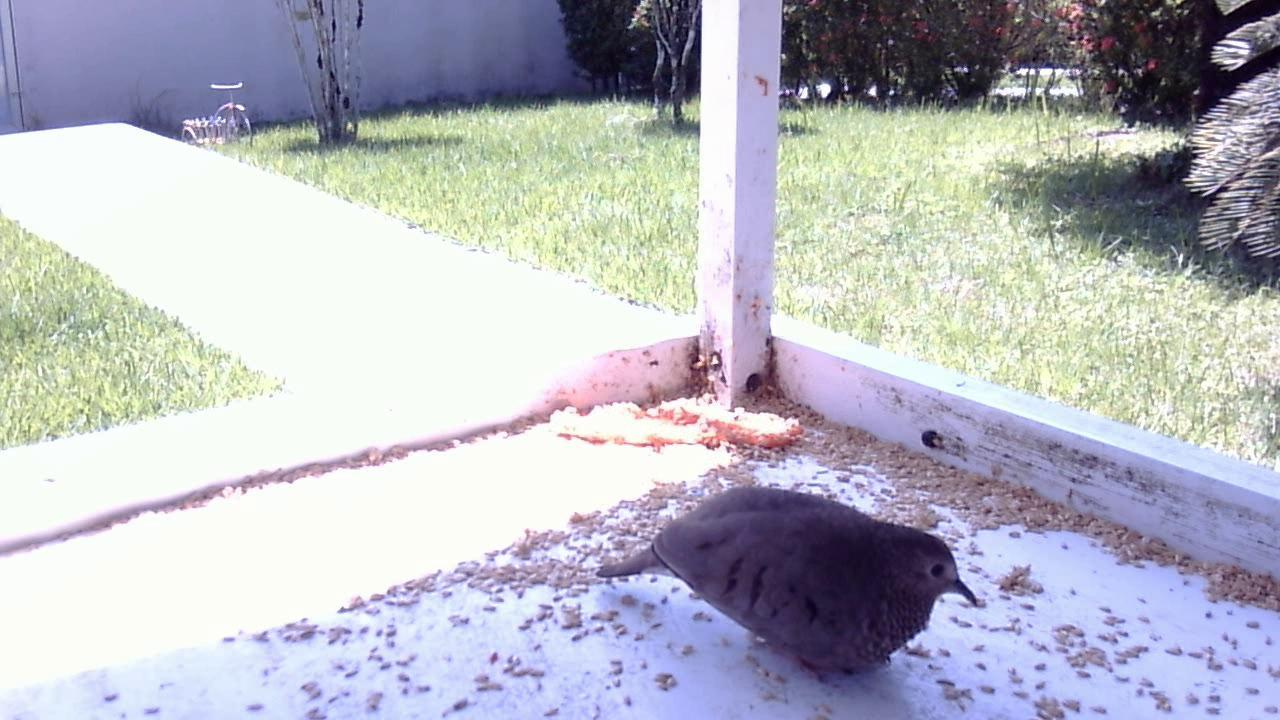rolinha: (581, 469, 988, 697)
